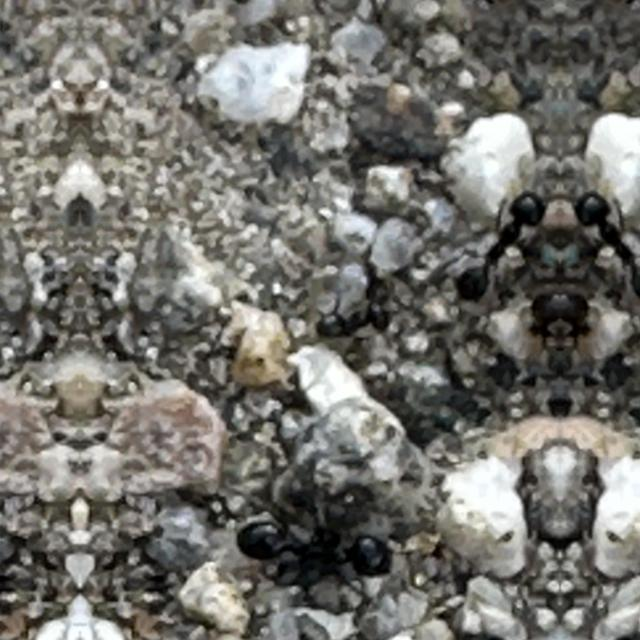Messor: (239, 508, 395, 588), (452, 193, 544, 313), (576, 193, 640, 313), (304, 291, 402, 357)
